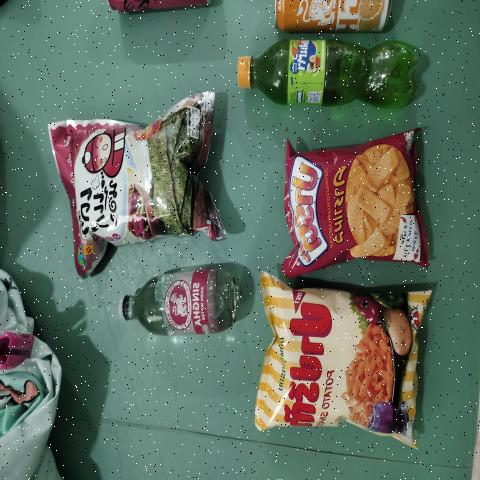fanta_green: (237, 30, 429, 112)
paprika: (266, 288, 423, 429)
party_red: (291, 150, 418, 271)
singha_soda: (120, 262, 246, 342)
taokaenoi: (77, 97, 218, 258)
